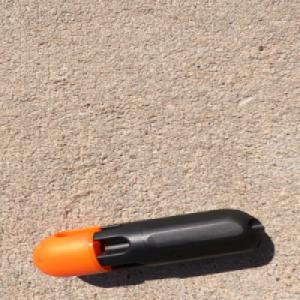PlasticPart: (28, 208, 266, 278)
